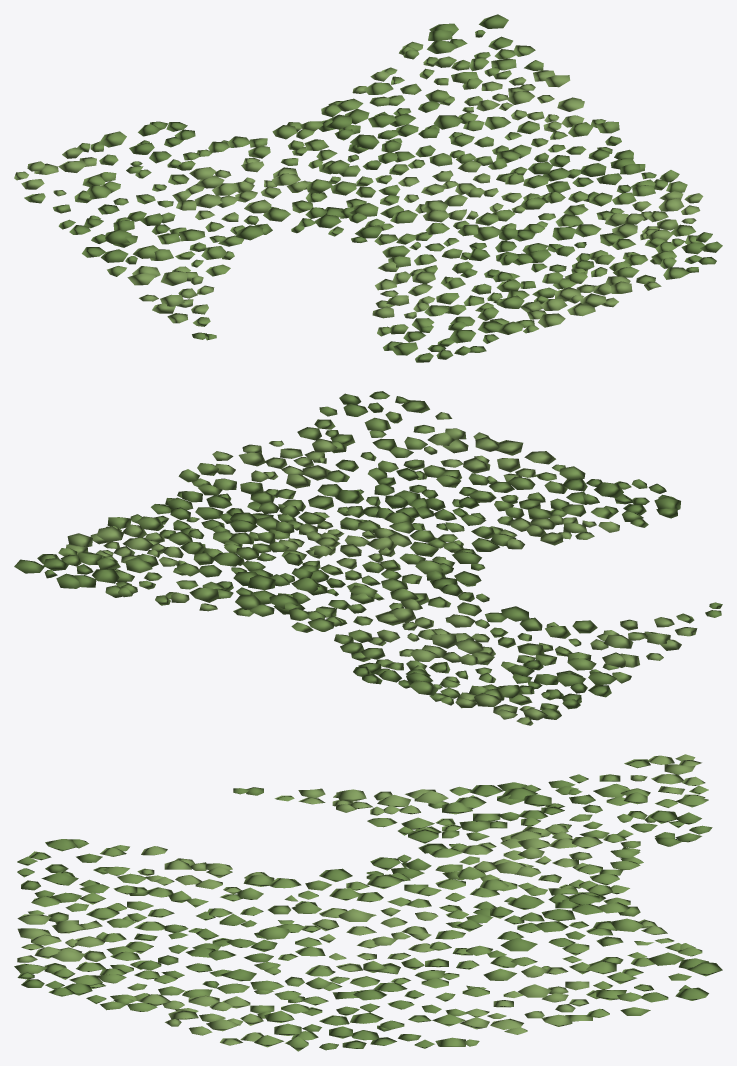
File: canopy-1-1-5.glb
3 renders of one model, top to bottom at view 1: azimuth 30°, elevation 25°; view 2: azimuth 150°, elevation 25°; view 3: azimuth 270°, elevation 25°, orthographic. The views are drawn at different scales.
Size of the model in its own units: 518 by 70 by 518.
1 material, 1 textured.
